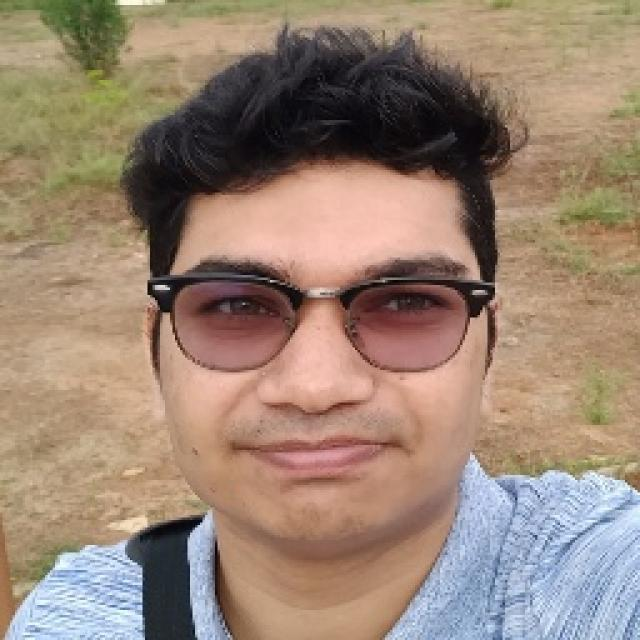eye: (373, 288, 449, 320), (203, 292, 275, 321)
nose: (262, 400, 369, 434)
